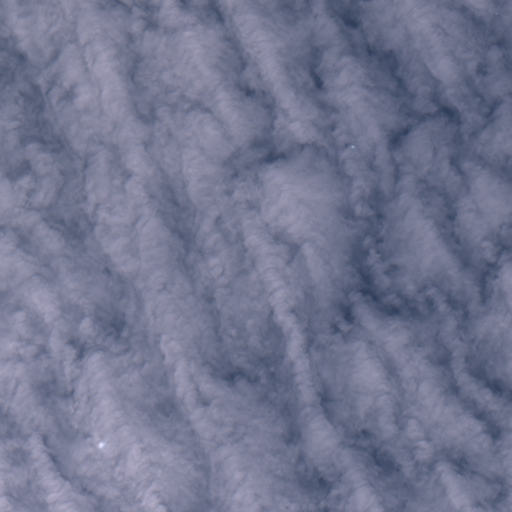Iceberg: (99, 442, 104, 447), (351, 145, 354, 147)
